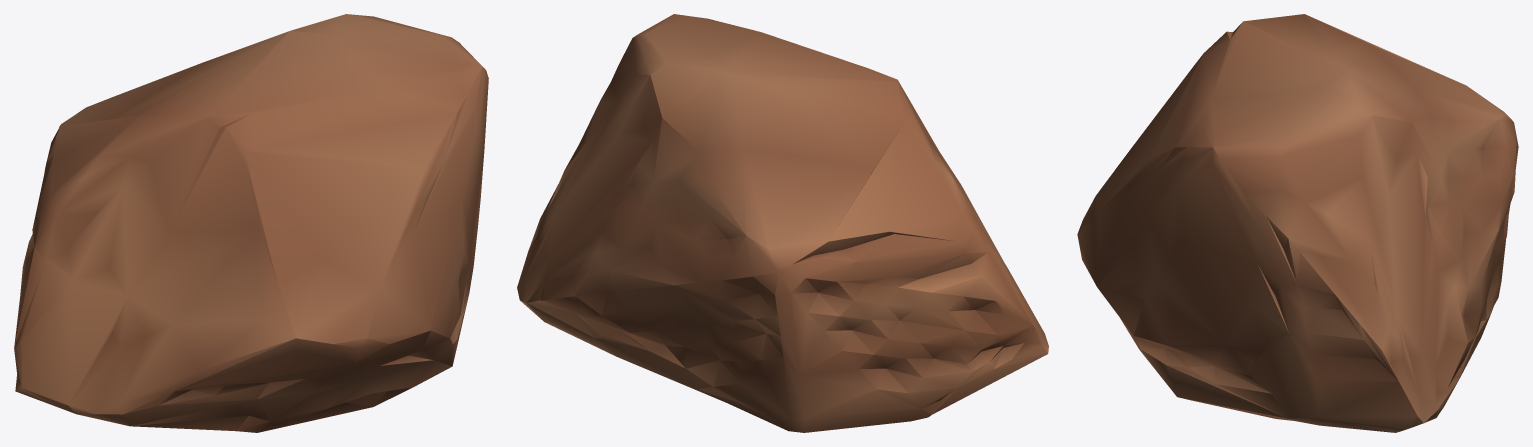
File: rock.sandstone.red.glb
3 views of the same model, side by side, from view 1: azimuth 30°, elevation 25°; view 2: azimuth 150°, elevation 25°; view 3: azimuth 270°, elevation 25° (orthographic). The views are drawn at different scales.
Visible parts, largest first — view 1: rock_sandstone_red; view 2: rock_sandstone_red; view 3: rock_sandstone_red.
Part boxes in pixels (x1,y1,x2,y2): rock_sandstone_red: [14, 14, 488, 432]; rock_sandstone_red: [517, 14, 1048, 432]; rock_sandstone_red: [1077, 14, 1518, 432].
Size of what is drawn, in the model's own units: 2.2 by 1.35 by 1.68.
